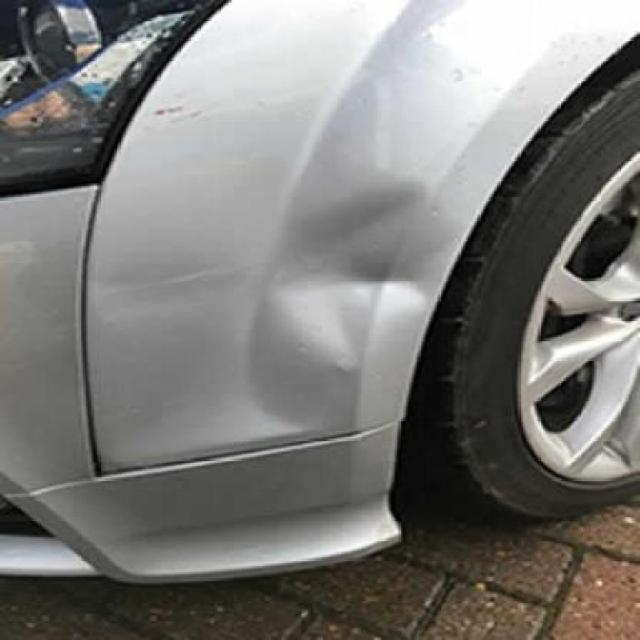dent: (245, 80, 438, 429)
